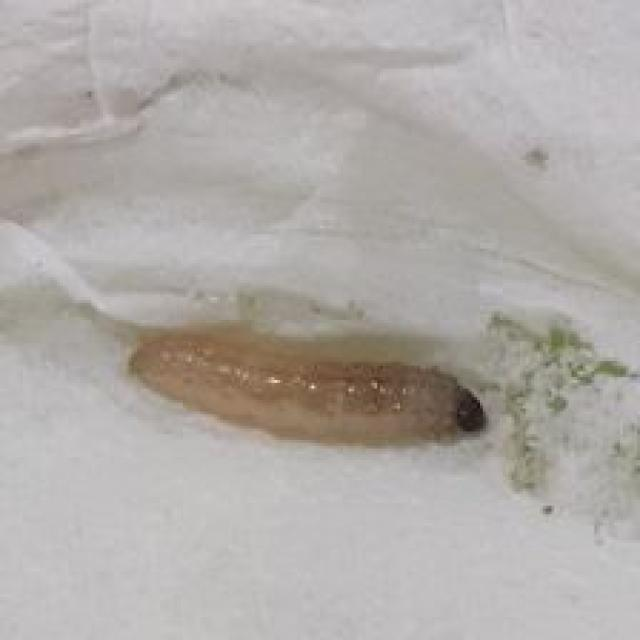white mucus: (122, 323, 517, 462)
